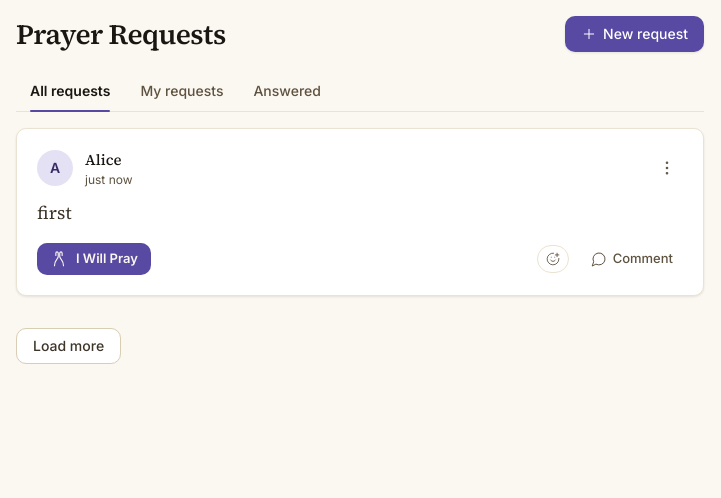
Scenario: FeedPage › load more advances the cursor
Expected: the text "first" is shown, x1=37 y1=200 x2=72 y2=224
Step 1. Click the button "Load more" → (69, 346), box x1=16 y1=328 x2=121 y2=364
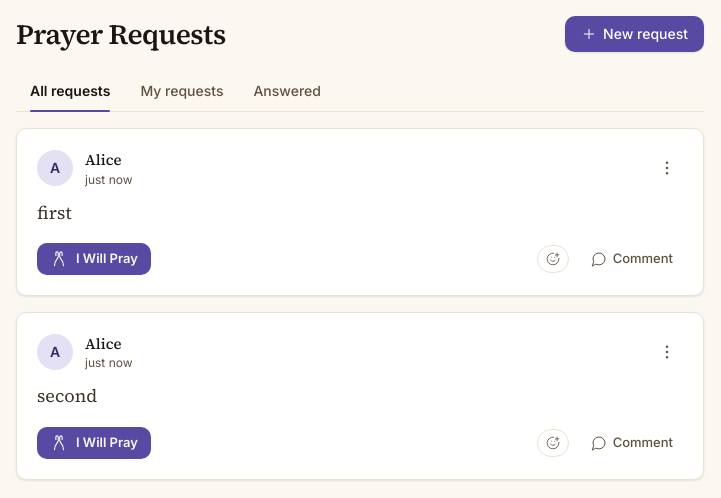
Expected: the text "second" is shown, x1=37 y1=383 x2=97 y2=408
